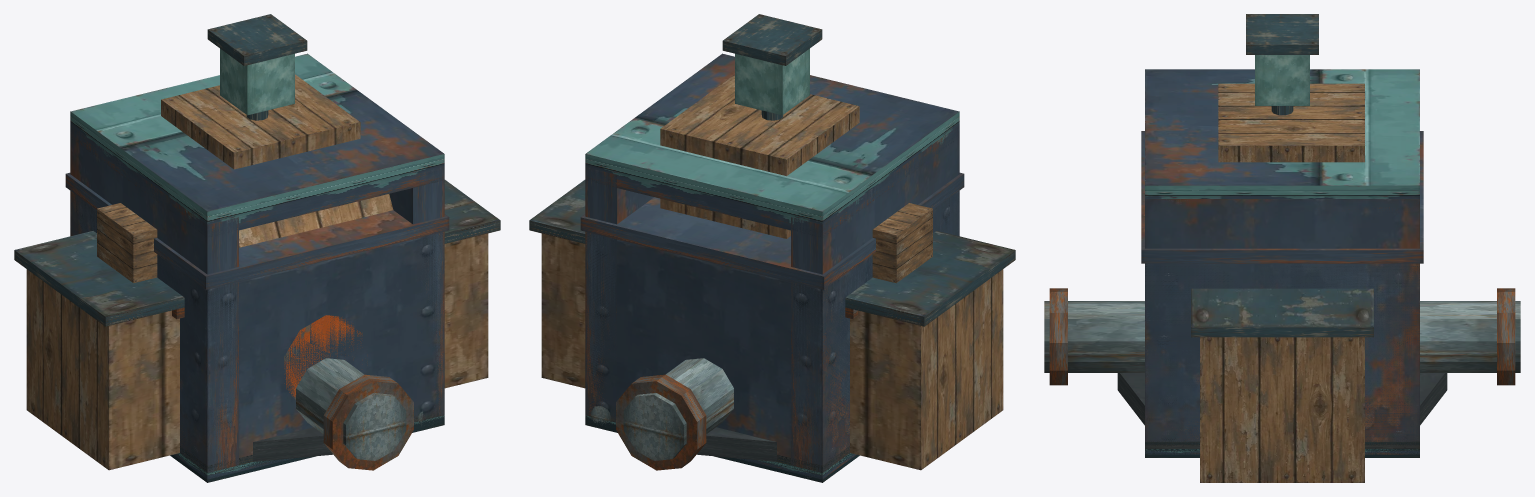
The model's file is kit.glb.
The picture shows the model from 3 angles, left to right: view 1: azimuth 30°, elevation 25°; view 2: azimuth 150°, elevation 25°; view 3: azimuth 270°, elevation 25°; orthographic projection.
Parts seen in each view (by area): view 1: door_boss_frame, wall_0, supply_counter, crates_stack, pipe_throttle, lamp_post, crate_open, trap_valve, data_pad, floor_0; view 2: door_boss_frame, wall_0, supply_counter, crates_stack, pipe_throttle, lamp_post, data_pad, floor_0, trap_belt; view 3: door_boss_frame, supply_counter, pipe_throttle, wall_0, crates_stack, lamp_post, data_pad, trap_belt, floor_0, trap_press.
Boxes of the visible parts, box(x1,y1,x2,y2) form: door_boss_frame: box(70, 53, 444, 479); wall_0: box(65, 172, 449, 465); supply_counter: box(14, 180, 500, 470); crates_stack: box(161, 74, 360, 169); pipe_throttle: box(296, 358, 413, 470); lamp_post: box(207, 14, 307, 120); crate_open: box(239, 194, 393, 247); trap_valve: box(284, 315, 367, 399); data_pad: box(253, 427, 332, 461); floor_0: box(170, 415, 444, 482); door_boss_frame: box(585, 53, 959, 479); wall_0: box(580, 172, 964, 470); supply_counter: box(529, 180, 1015, 470); crates_stack: box(660, 75, 859, 238); pipe_throttle: box(616, 358, 733, 470); lamp_post: box(722, 14, 822, 120); data_pad: box(697, 427, 776, 461); floor_0: box(585, 415, 859, 482); trap_belt: box(589, 406, 849, 477); door_boss_frame: box(1145, 69, 1419, 454); supply_counter: box(1191, 288, 1373, 482); pipe_throttle: box(1044, 288, 1520, 385); wall_0: box(1141, 131, 1423, 440); crates_stack: box(1218, 83, 1364, 162); lamp_post: box(1246, 14, 1318, 115); data_pad: box(1117, 373, 1447, 425); trap_belt: box(1145, 440, 1419, 448); floor_0: box(1145, 449, 1419, 457); trap_press: box(1145, 442, 1419, 450).
Size of the model in its own units: 2.5 by 2.23 by 2.6.
Materials: 3 (3 with a texture image).
